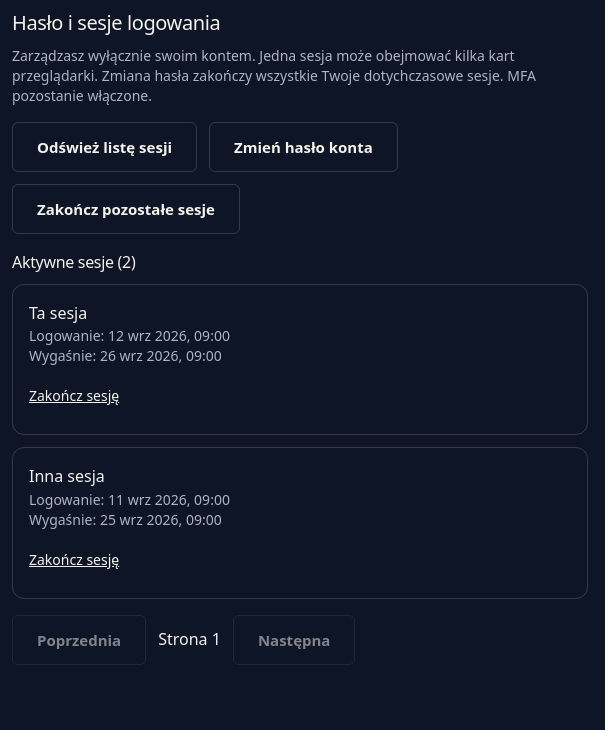
Scenario: account settings › does not close current session after revoking others and reloads their status
This screenshot has width=605, height=730.
Click the button "Zakończ pozostałe sesje" at (126, 209), box x1=12 y1=184 x2=240 y2=234
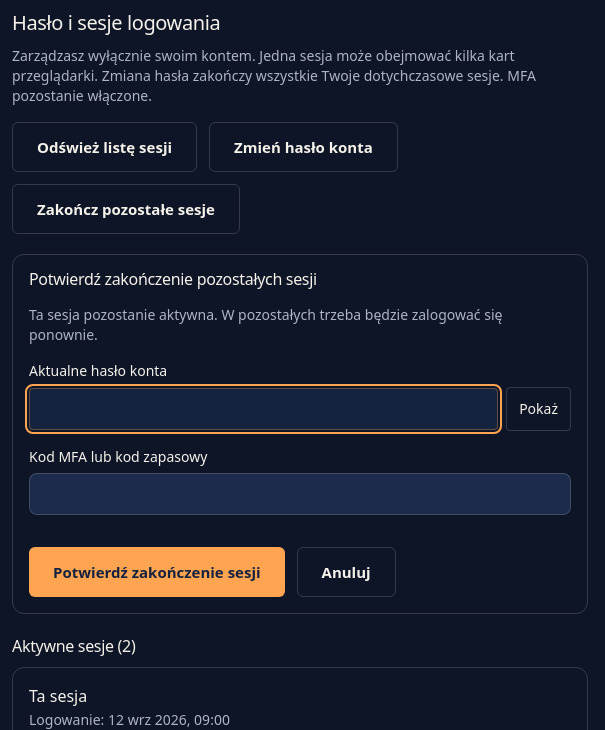
Type "secret" into the password field labelled "Aktualne hasło konta" at (264, 409), box x1=29 y1=388 x2=498 y2=430
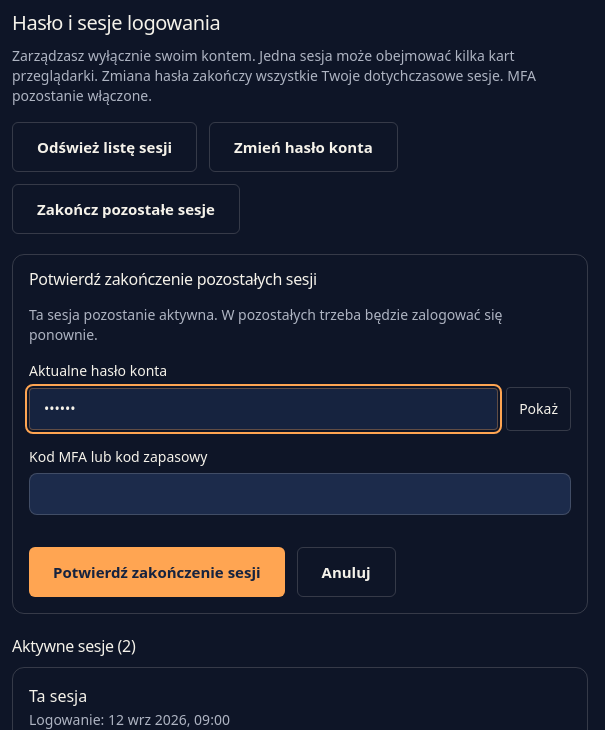
Type "123456" into the field labelled "Kod MFA lub kod zapasowy" at (300, 494), box x1=29 y1=473 x2=571 y2=515
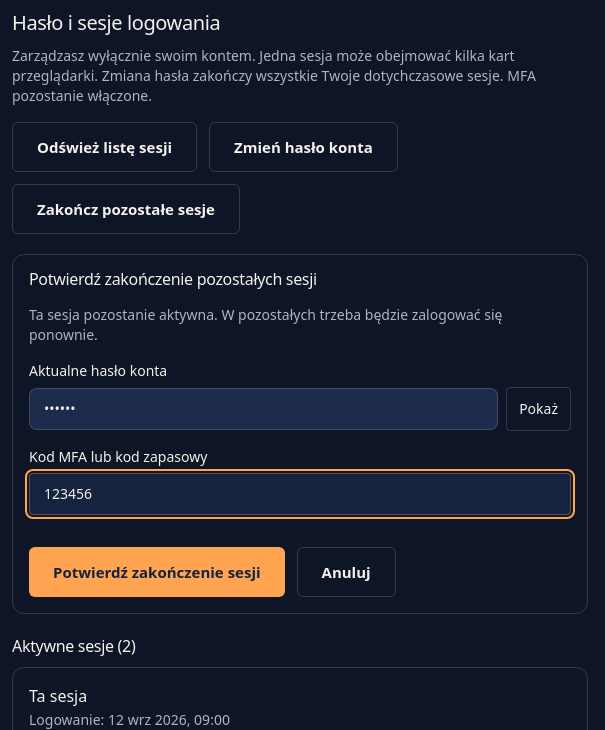
Click the button "Potwierdź zakończenie sesji" at (157, 572), box x1=29 y1=547 x2=285 y2=597
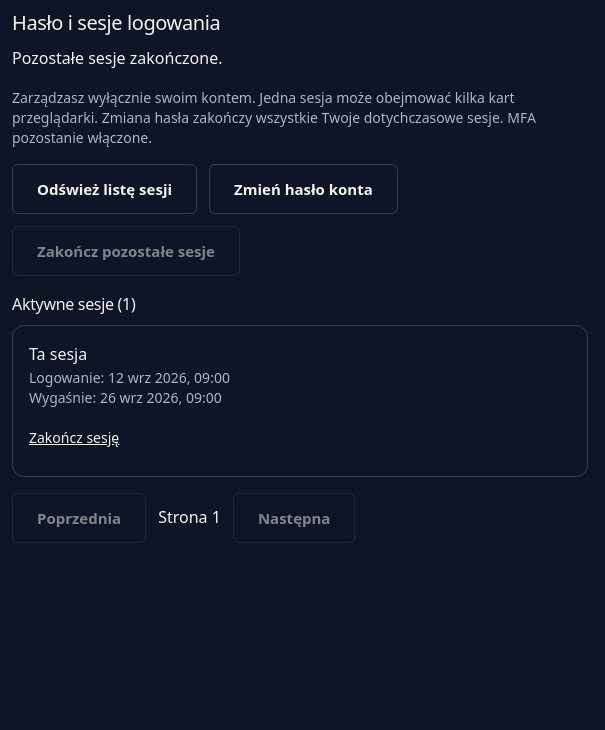
Result: the heading "Aktywne sesje (1)" is shown at x1=12 y1=293 x2=135 y2=315
Result: the button "Zakończ pozostałe sesje" is disabled at x1=12 y1=226 x2=240 y2=276
